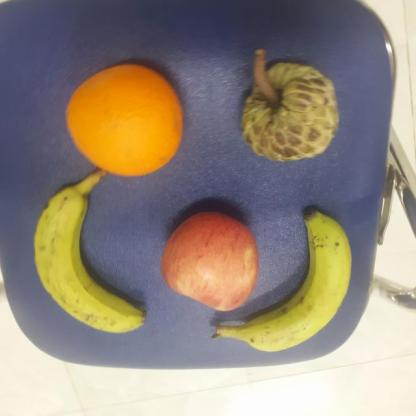annona: (239, 54, 336, 165)
apple: (157, 209, 262, 312)
banana: (31, 167, 148, 334), (246, 208, 355, 361)
orange: (62, 56, 186, 182)
